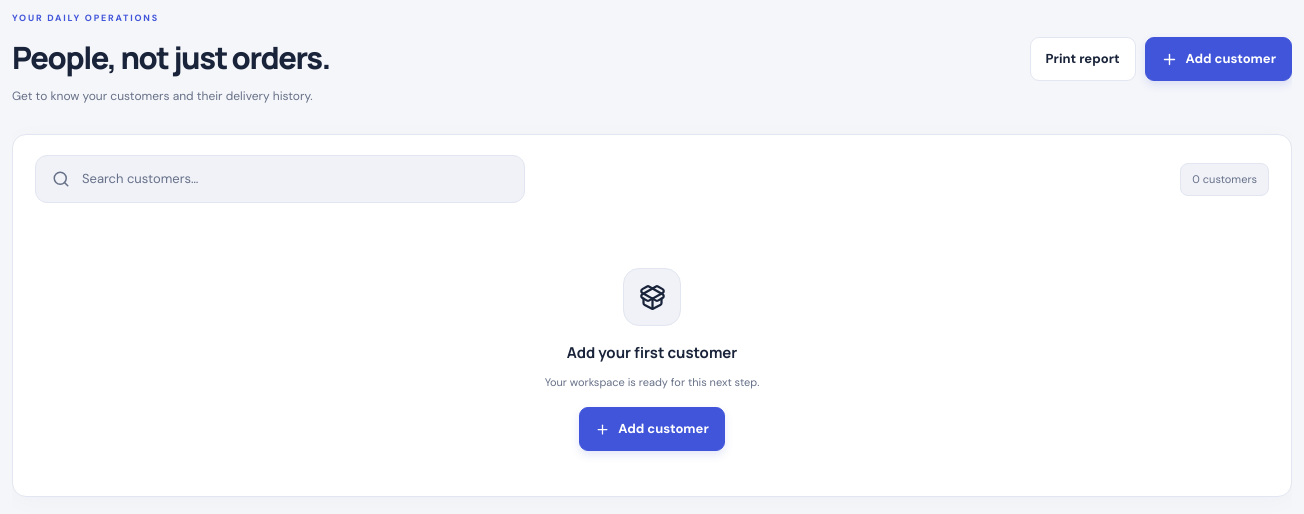
Scenario: preserves customers server search and clears it
In the search field labelled "Search customers": (297, 179) [82,156,512,202], type "sample"
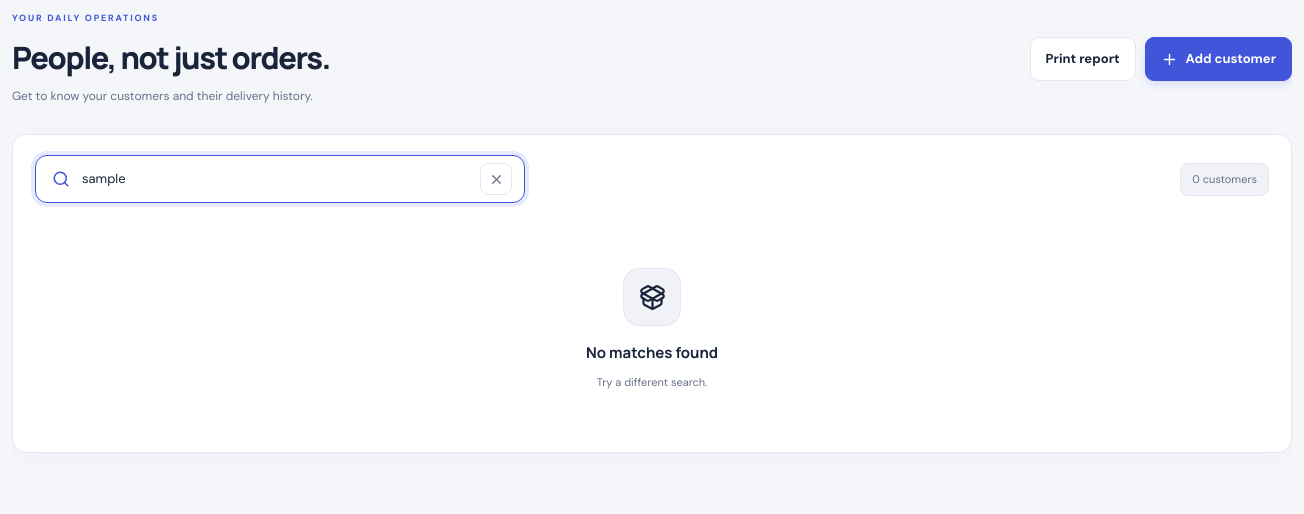
Click the button named "Clear search customers": (496, 179) [480,163,512,195]
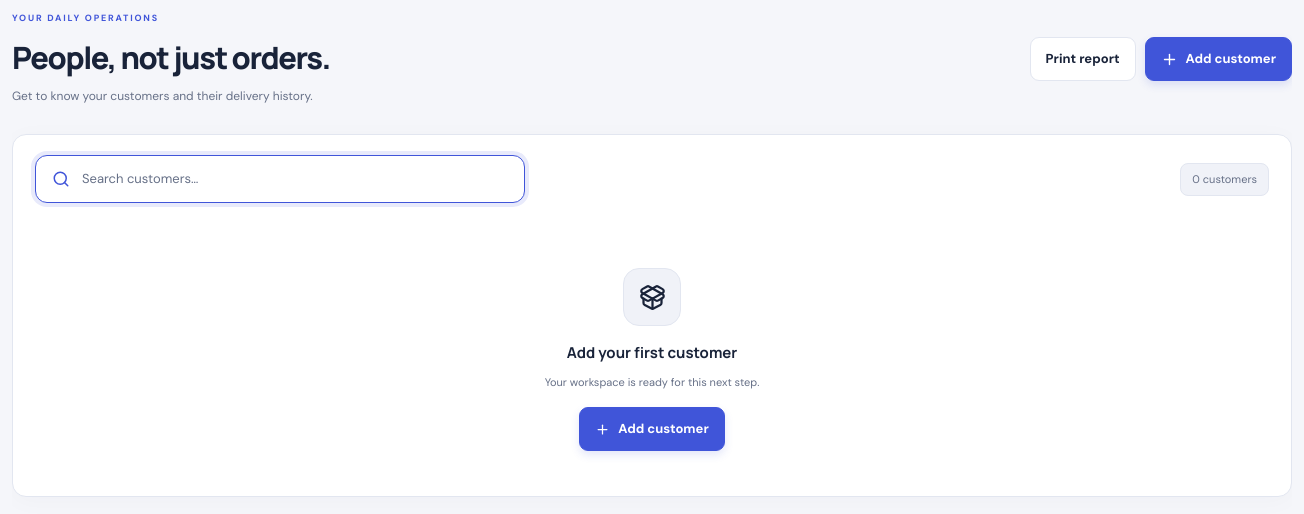
Check: the search field labelled "Search customers" is empty, box [82,156,512,202]
